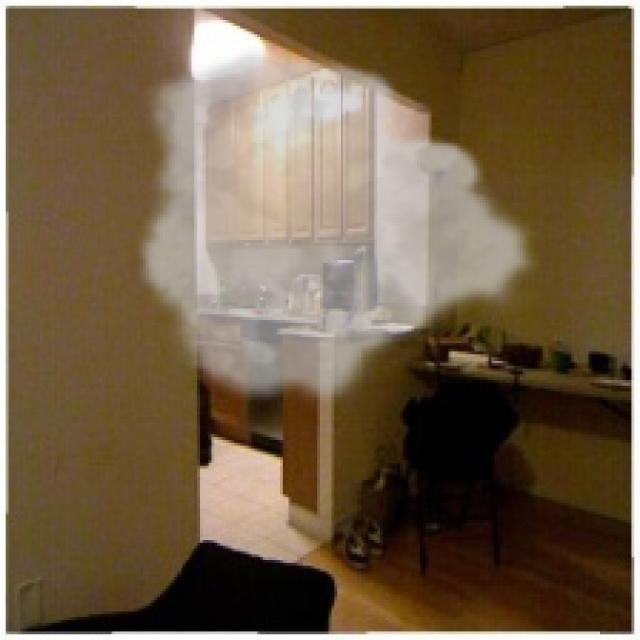Smoke: (135, 46, 540, 412)
